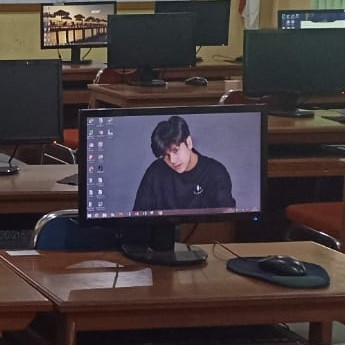monitor: (77, 104, 268, 230), (241, 27, 344, 103), (0, 58, 64, 145), (107, 12, 197, 70), (40, 1, 117, 50), (191, 0, 231, 47), (277, 9, 345, 30)
